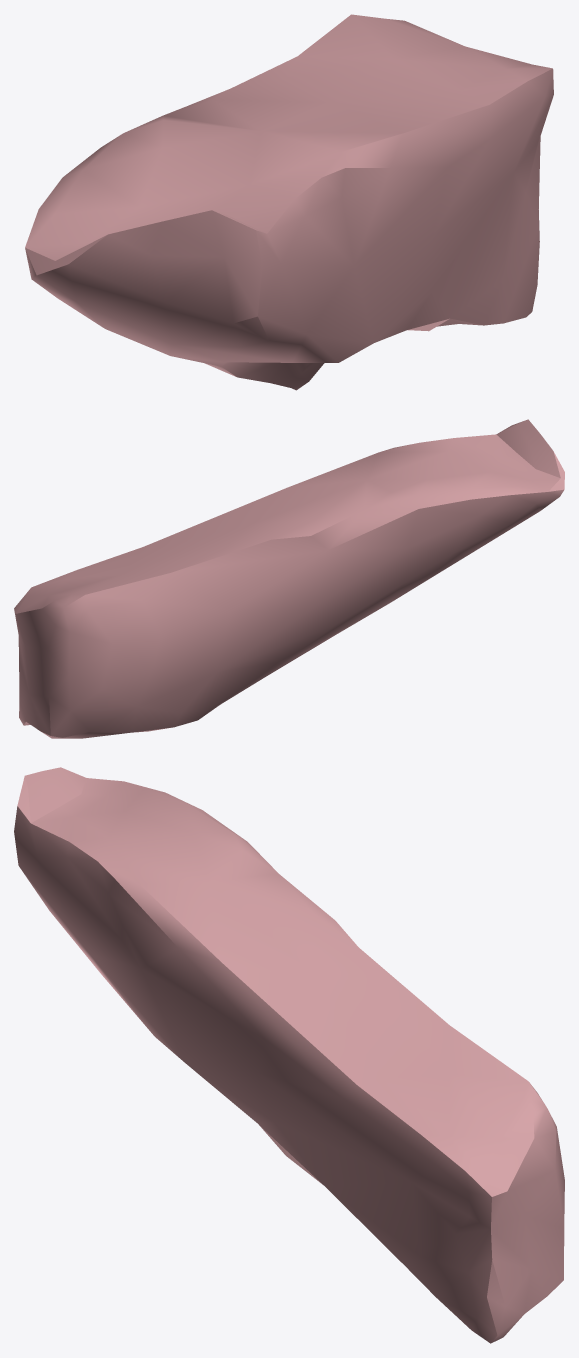
Rendered from fma54800_mm2104m.glb.
The picture shows the model from 3 angles, top to bottom: view 1: azimuth 30°, elevation 25°; view 2: azimuth 150°, elevation 25°; view 3: azimuth 270°, elevation 25°; orthographic projection. The views are drawn at different scales.
Parts seen in each view (by area): view 1: FMA54800_MM2104M; view 2: FMA54800_MM2104M; view 3: FMA54800_MM2104M.
Boxes of the visible parts, <box> form: FMA54800_MM2104M: <box>25,14,553,390</box>; FMA54800_MM2104M: <box>14,419,564,738</box>; FMA54800_MM2104M: <box>14,767,564,1343</box>.
Bounding box in the file's own units: 0.0149 × 0.0091 × 0.013.
